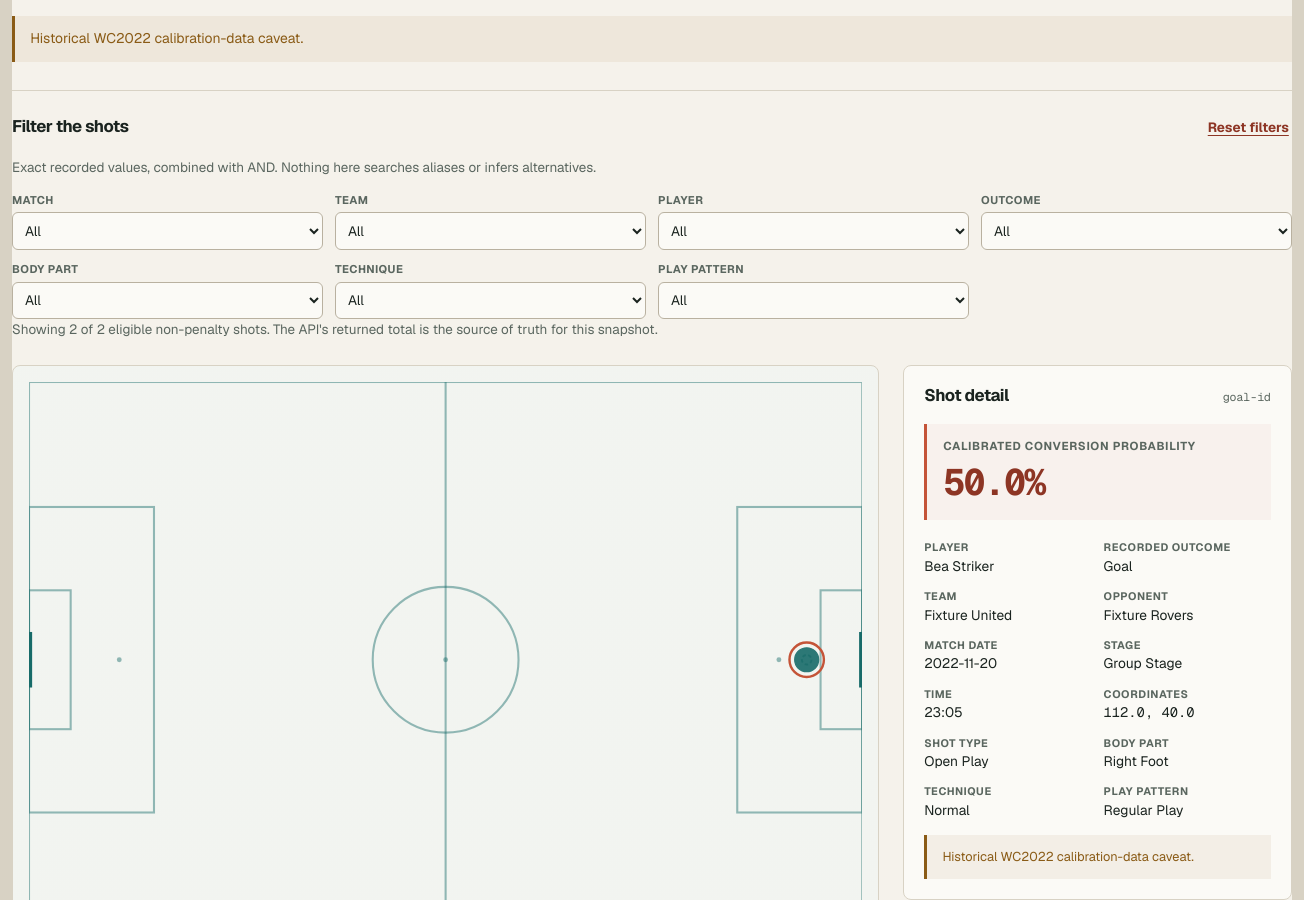
it: ExploreRoute when publication is open › shows the full probability workspace with filters, keyboard selection, and caveats
Expected: the text "Historical WC2022 calibration-data caveat." is shown 2 times, [12,16,1292,62]; [924,835,1271,879]
Expected: the text "Showing 2 of 2" is shown, [12,320,658,338]
Select "Other Player" in the dropdown labelled "Player": [814, 231] box [658,212,969,250]
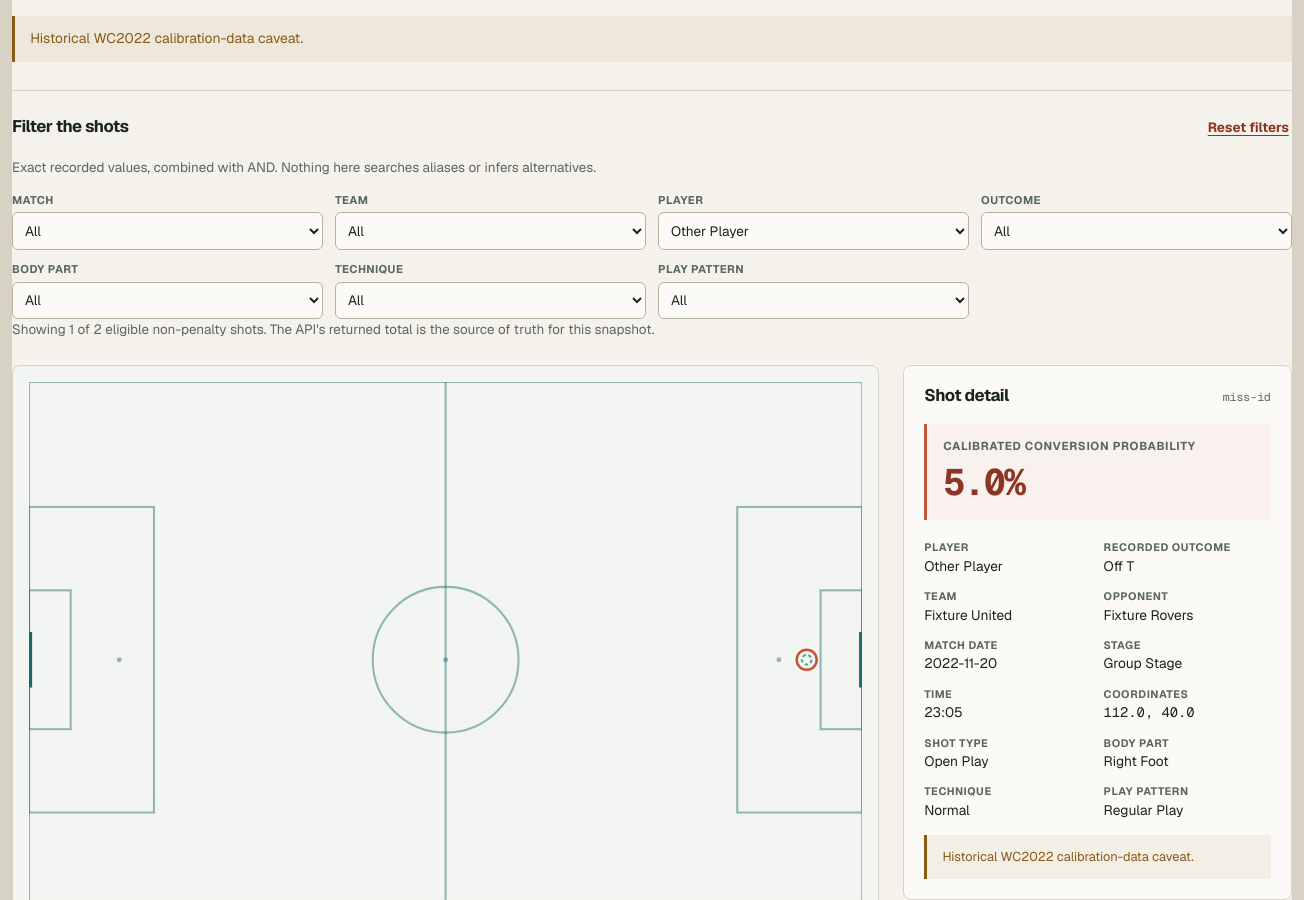
Result: the text "Other Player" is shown at [924,557,1003,575]
Result: the text "5.0%" is shown at [943,458,1024,506]
